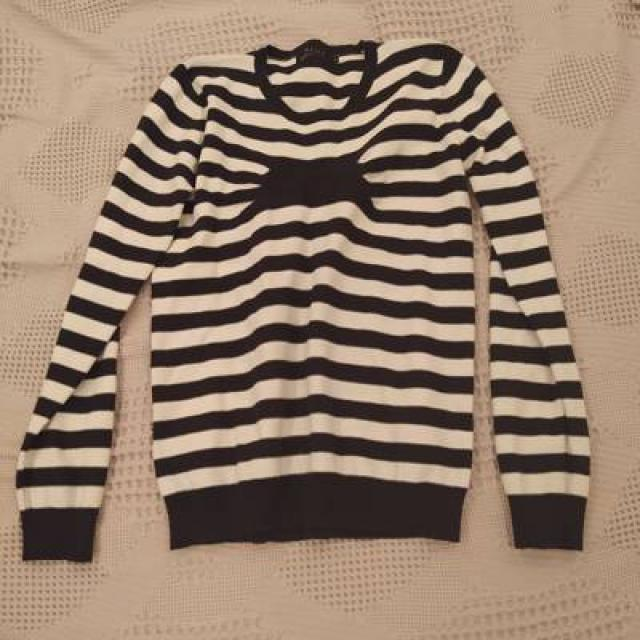Clothes -Biodegradable-: (20, 39, 588, 567)
